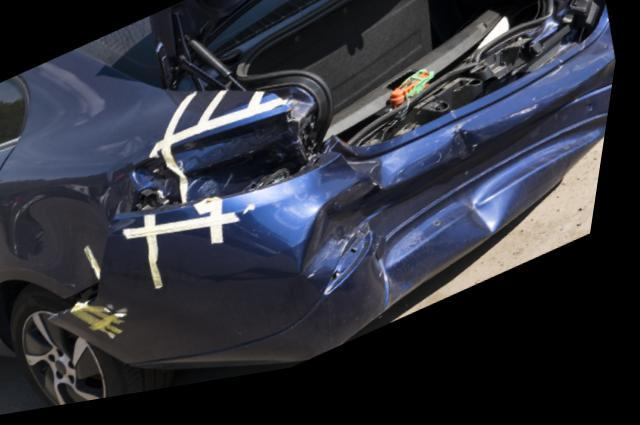dent: (308, 102, 616, 318)
dislocated part: (53, 36, 621, 381)
no part: (132, 122, 314, 224)
